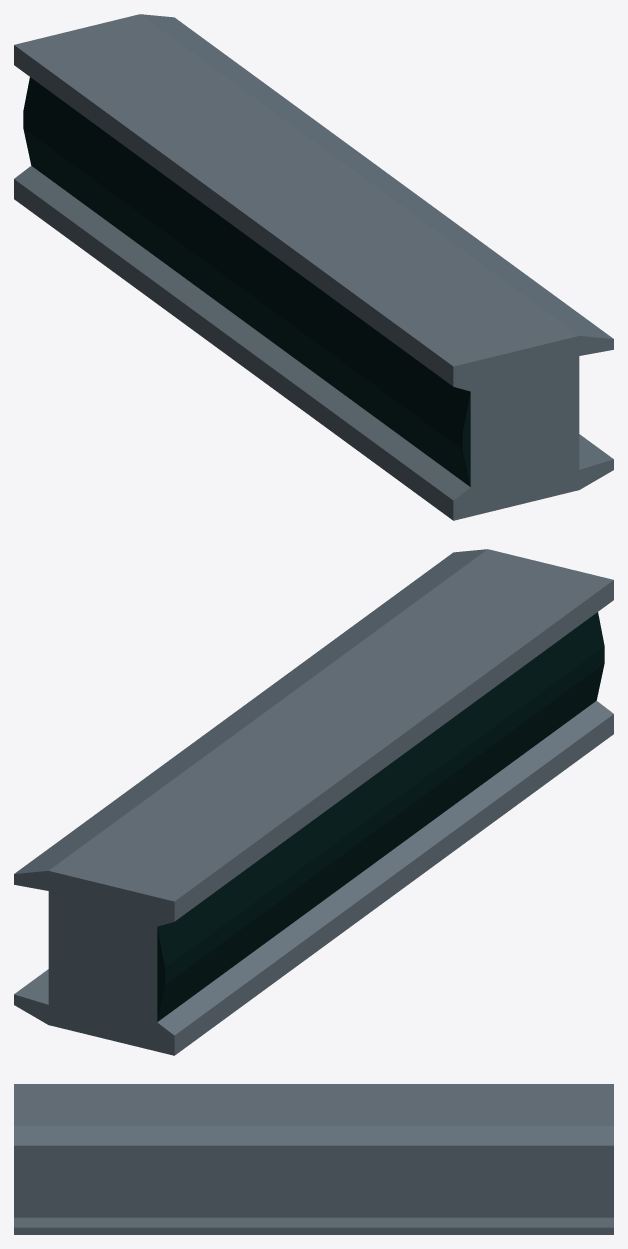
Rendered from OneSideFrame.fbx.
3 renders of one model, top to bottom at view 1: azimuth 30°, elevation 25°; view 2: azimuth 150°, elevation 25°; view 3: azimuth 270°, elevation 25°, orthographic. The views are drawn at different scales.
Visible parts, largest first — view 1: ONEsideFrame; view 2: ONEsideFrame; view 3: ONEsideFrame.
Boxes of the visible parts, box(x1,y1,x2,y2) form: ONEsideFrame: box(14, 14, 613, 520); ONEsideFrame: box(14, 549, 613, 1055); ONEsideFrame: box(14, 1084, 613, 1234).
Bounding box in the file's own units: 2.1 × 1.93 × 9.98.
